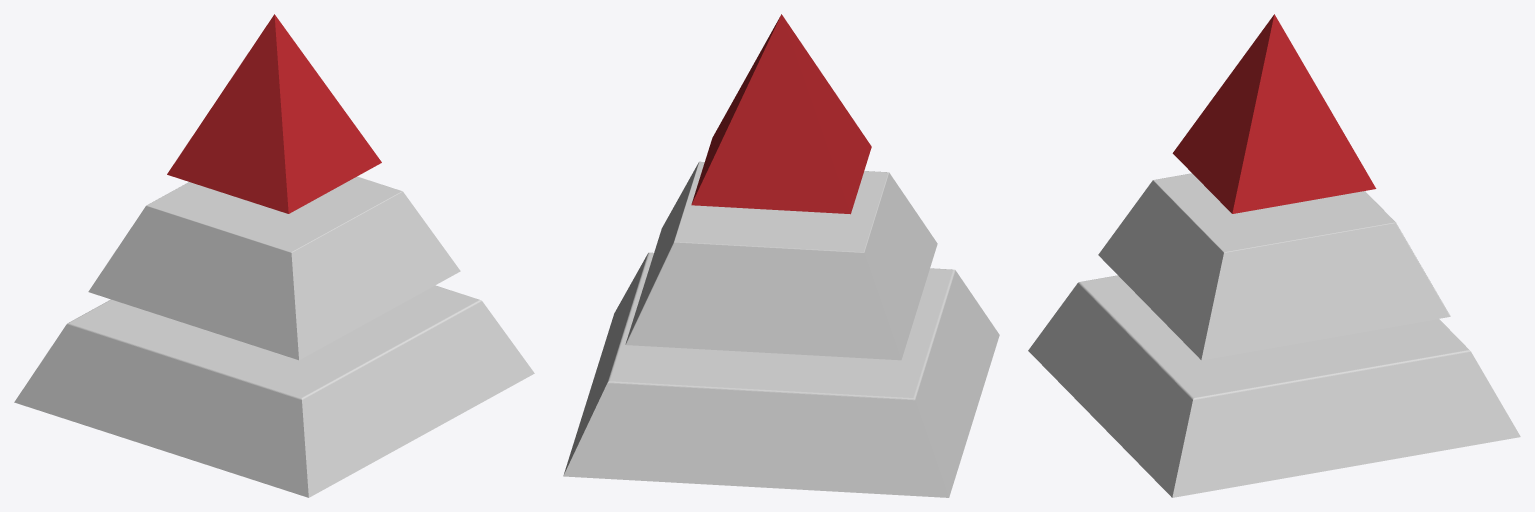
File: pyramid_light.glb
3 renders of one model, left to right at view 1: azimuth 30°, elevation 25°; view 2: azimuth 150°, elevation 25°; view 3: azimuth 270°, elevation 25°, orthographic. The views are drawn at different scales.
Parts seen in each view (by area): view 1: Cone002; view 2: Cone002; view 3: Cone002.
Part boxes in pixels (left/top/right/bottom): Cone002: left=14, top=14, right=534, bottom=497; Cone002: left=563, top=14, right=999, bottom=497; Cone002: left=1028, top=14, right=1520, bottom=497.
Bounding box in the file's own units: 1.81 × 1.54 × 1.81.
